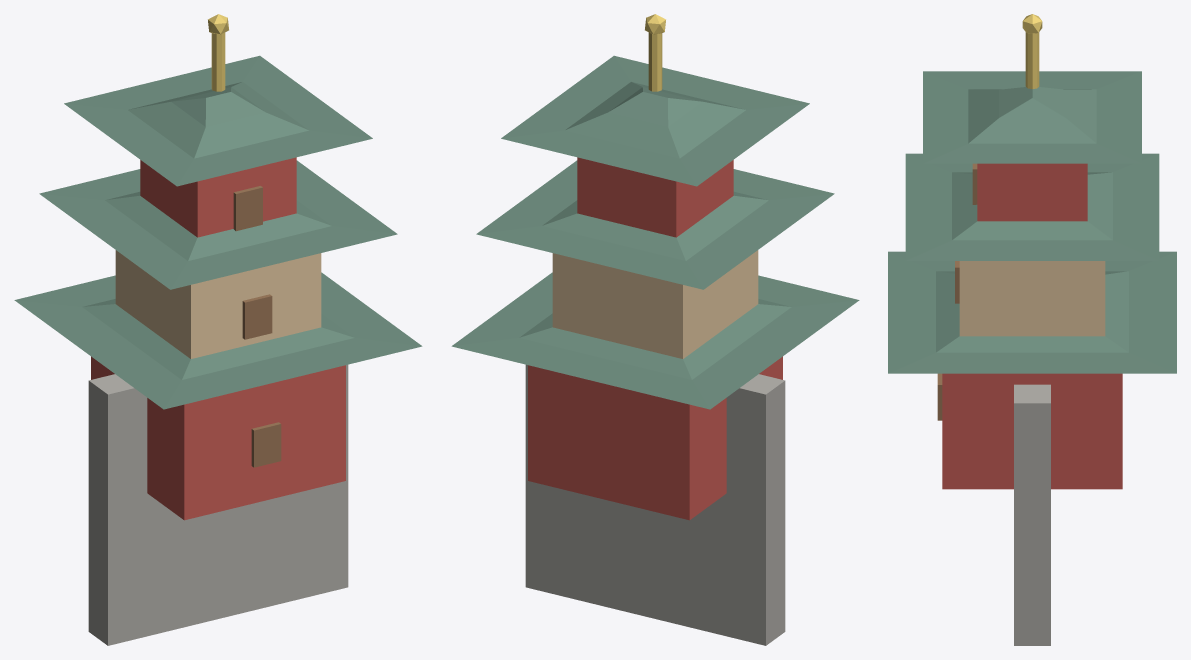
The model's file is Pagoda.fbx.
The picture shows the model from 3 angles, left to right: view 1: azimuth 30°, elevation 25°; view 2: azimuth 150°, elevation 25°; view 3: azimuth 270°, elevation 25°; orthographic projection. The views are drawn at different scales.
Parts seen in each view (by area): view 1: Pagoda; view 2: Pagoda; view 3: Pagoda.
Boxes of the visible parts, <box> form: Pagoda: <box>14,14,422,645</box>; Pagoda: <box>451,14,859,645</box>; Pagoda: <box>888,14,1176,645</box>.
Bounding box in the file's own units: 2.48 × 5.45 × 2.48.
